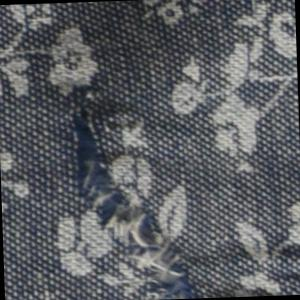Damage: (58, 87, 210, 300)
Wrinkle: (212, 234, 300, 299)
